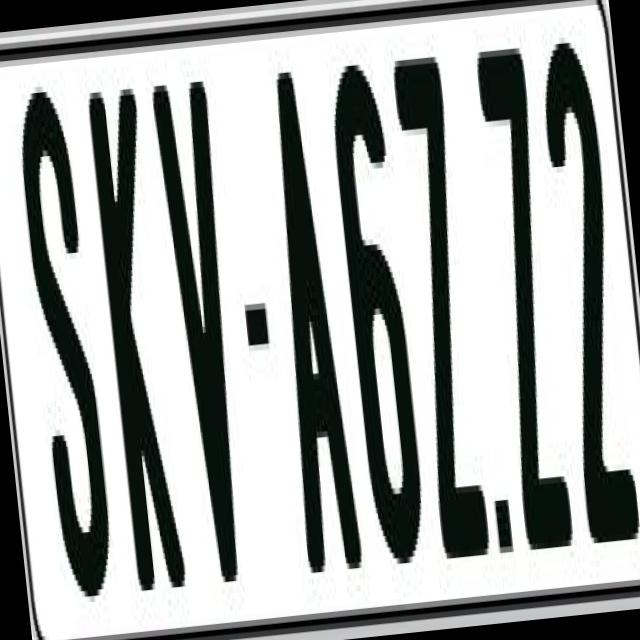2: (535, 22, 640, 525)
6: (322, 62, 432, 600)
A: (252, 64, 363, 591)
K: (86, 82, 190, 608)
S: (10, 88, 123, 628)
V: (150, 80, 258, 601)
Z: (474, 47, 584, 584), (389, 50, 491, 582)
